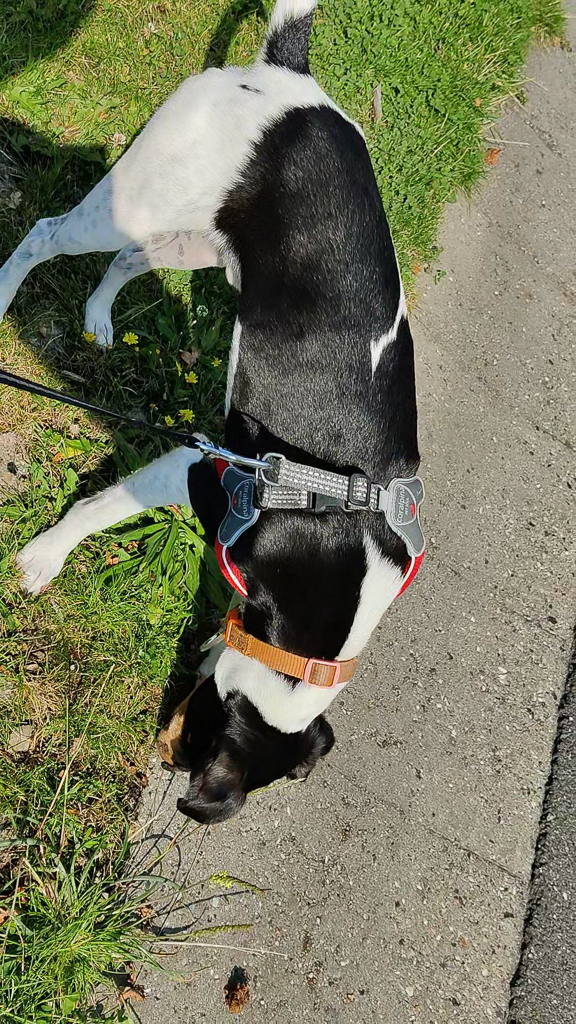Dog: (0, 0, 460, 847)
